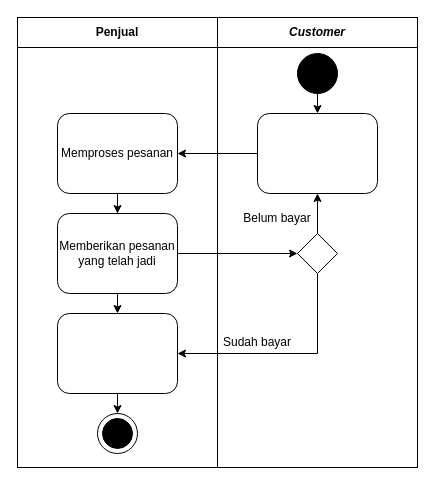
The diagram is 435 pixels wide and 485 high, and some of its shapes have lost their labels. Here are the shapes that lost their labels. From the top down, the box of each, then its label:
(256, 112, 378, 194): Memesan makanan dan minuman
(56, 312, 178, 394): Laporan penjualan
